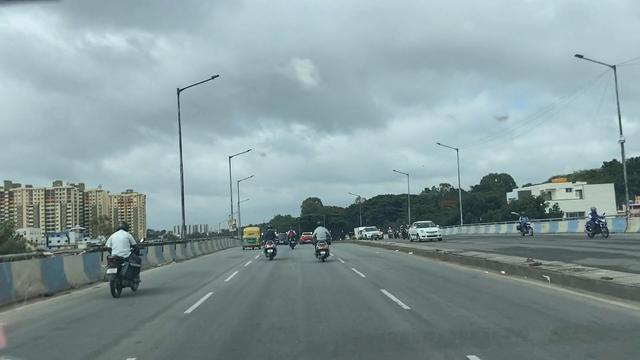LMV: (101, 221, 145, 297), (316, 217, 333, 260), (263, 221, 280, 259), (241, 221, 258, 252), (286, 223, 301, 250)
